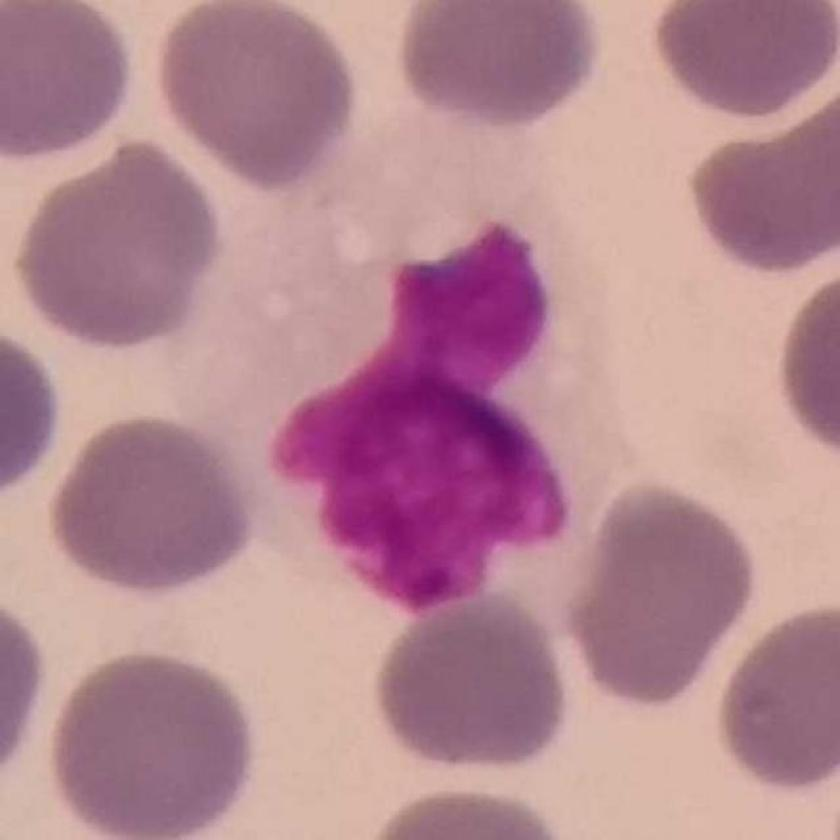monocyte: (175, 119, 646, 638)
